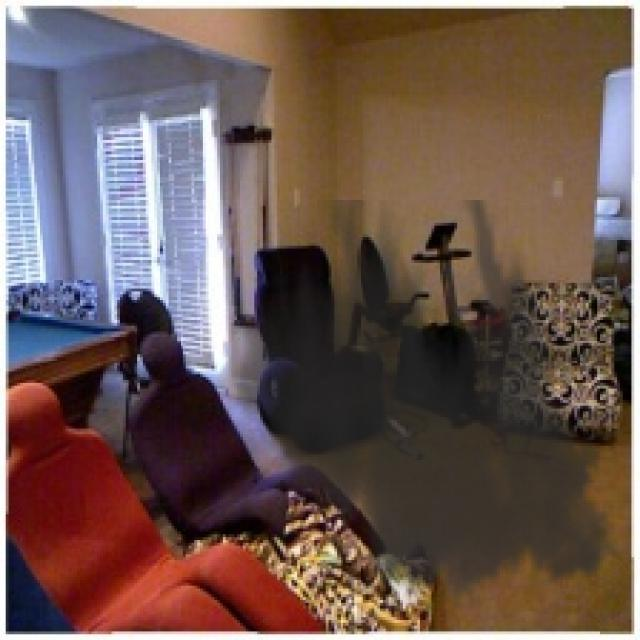Smoke: (219, 200, 632, 620)
